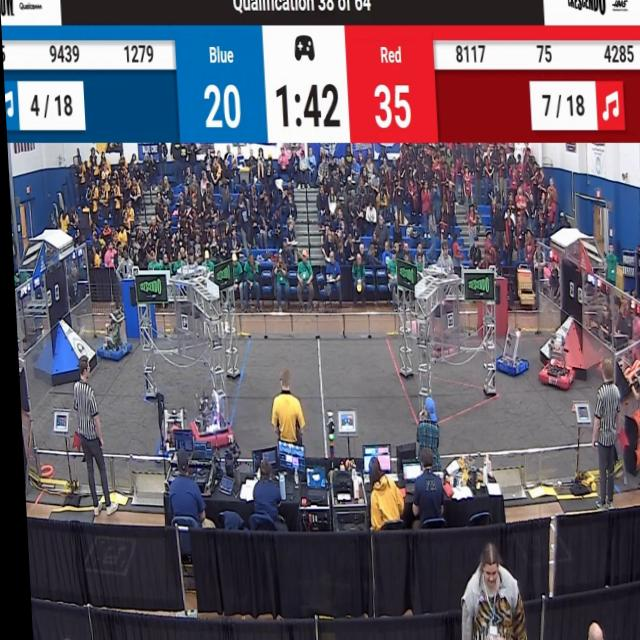Robot: (185, 382, 234, 452), (532, 324, 576, 394), (151, 401, 189, 459), (490, 325, 525, 382), (95, 308, 129, 366), (422, 306, 453, 366), (101, 300, 125, 338)
